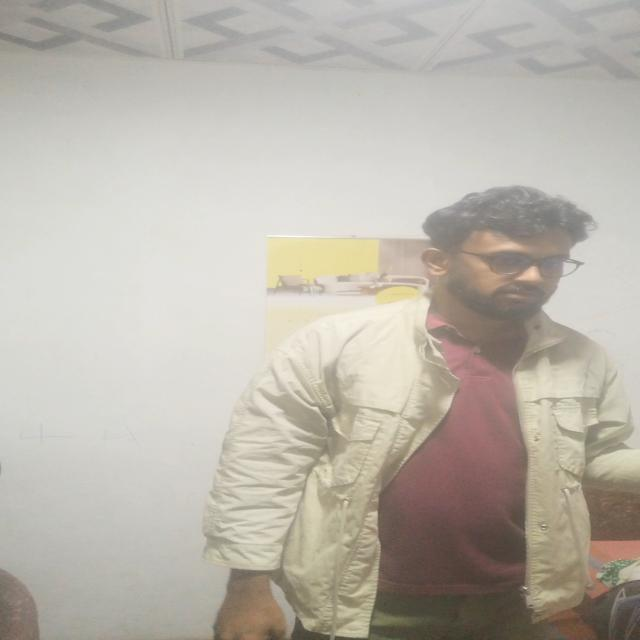Jacket_Wearer: (180, 293, 640, 638)
Person: (189, 186, 640, 640)
